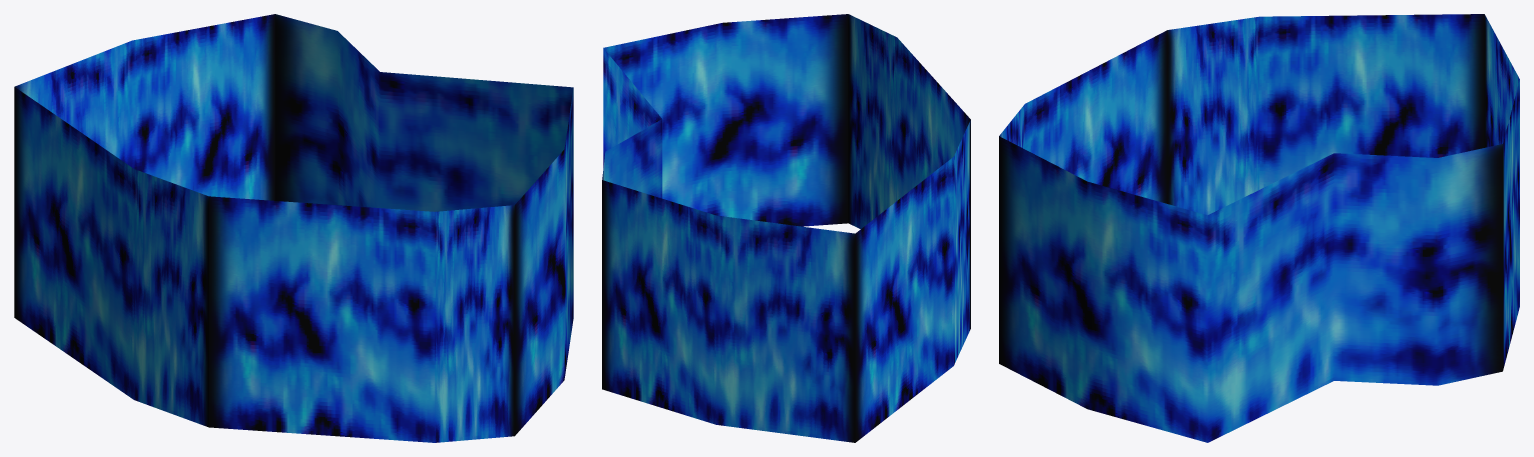
The model's file is mesh_zudangmen.FBX.
3 renders of one model, left to right at view 1: azimuth 30°, elevation 25°; view 2: azimuth 150°, elevation 25°; view 3: azimuth 270°, elevation 25°, orthographic. The views are drawn at different scales.
Parts seen in each view (by area): view 1: mesh_zudangmen; view 2: mesh_zudangmen; view 3: mesh_zudangmen.
Part boxes in pixels (left/top/right/bottom): mesh_zudangmen: left=14, top=14, right=573, bottom=442; mesh_zudangmen: left=602, top=14, right=970, bottom=442; mesh_zudangmen: left=999, top=14, right=1519, bottom=442.
Size of the model in its own units: 2288 by 1207 by 2502.
